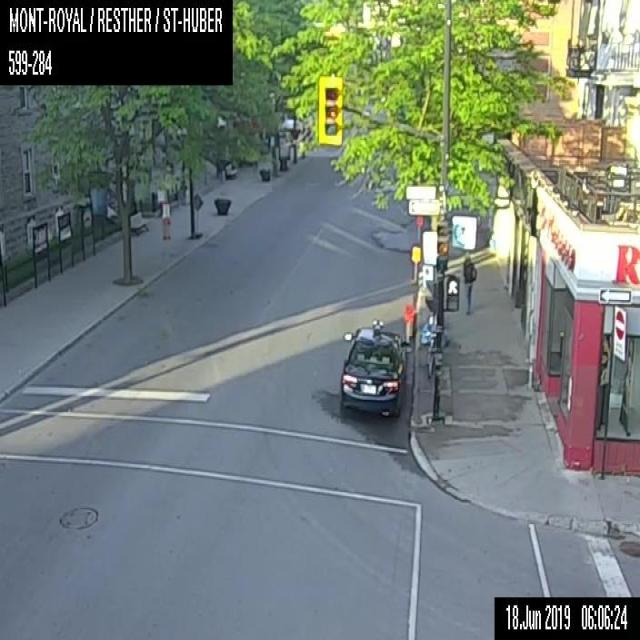pedestrian: (463, 250, 476, 314)
vehicle: (340, 318, 406, 418)
